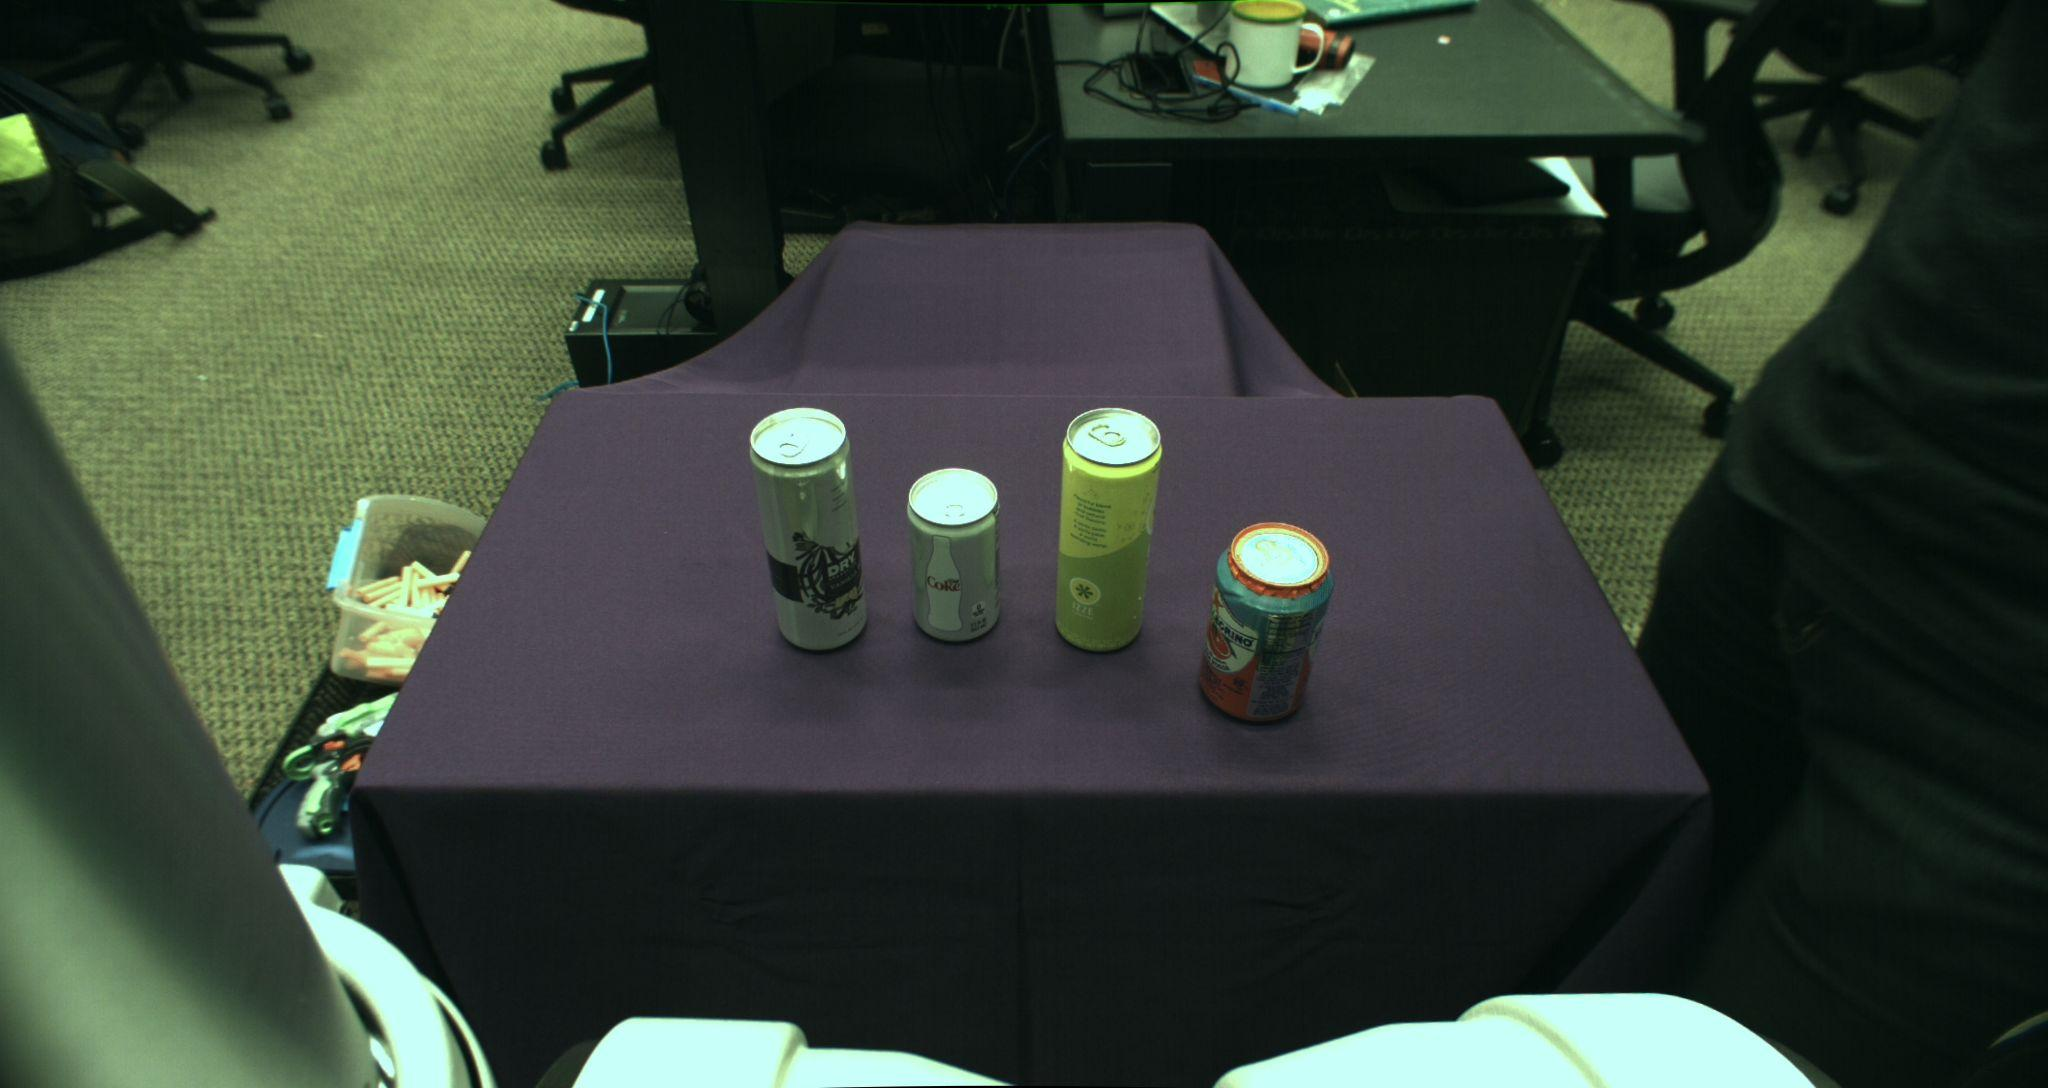can_diet_coke_small: (905, 466, 1002, 644)
can_dry_sparkling_vanilla_bean: (749, 406, 868, 650)
can_izze_fusions_lemon_lime: (1054, 404, 1164, 652)
can_sanpellegrino_blood_orange: (1197, 522, 1334, 724)
